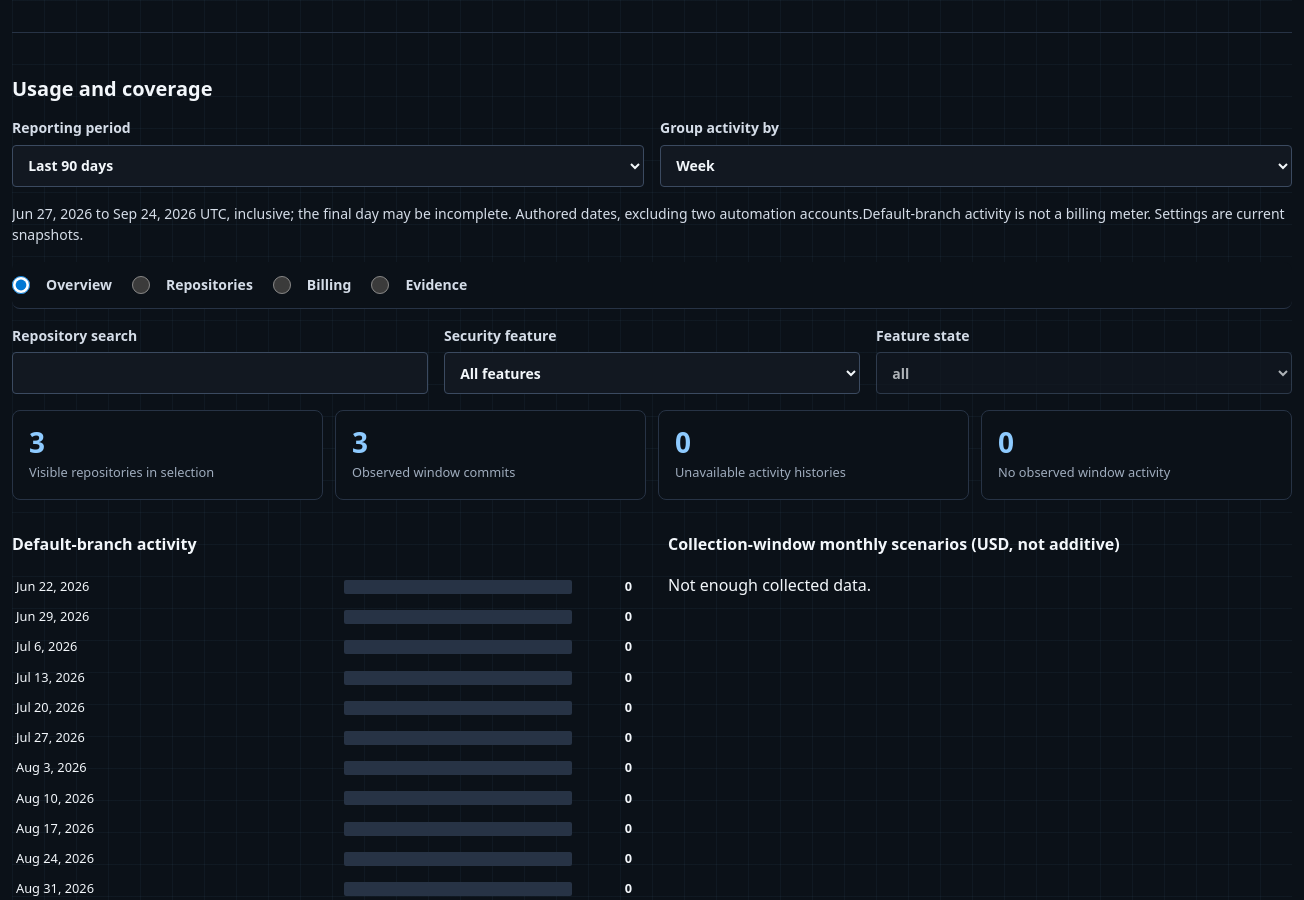
Results dashboard › narrows repositories by security feature independently of the feature state
Expected: the 1st text "3" is shown, [29, 423, 45, 461]
Select "Code Security" in the dropdown labelled "Security feature". click: [652, 373]
box: [444, 352, 860, 394]
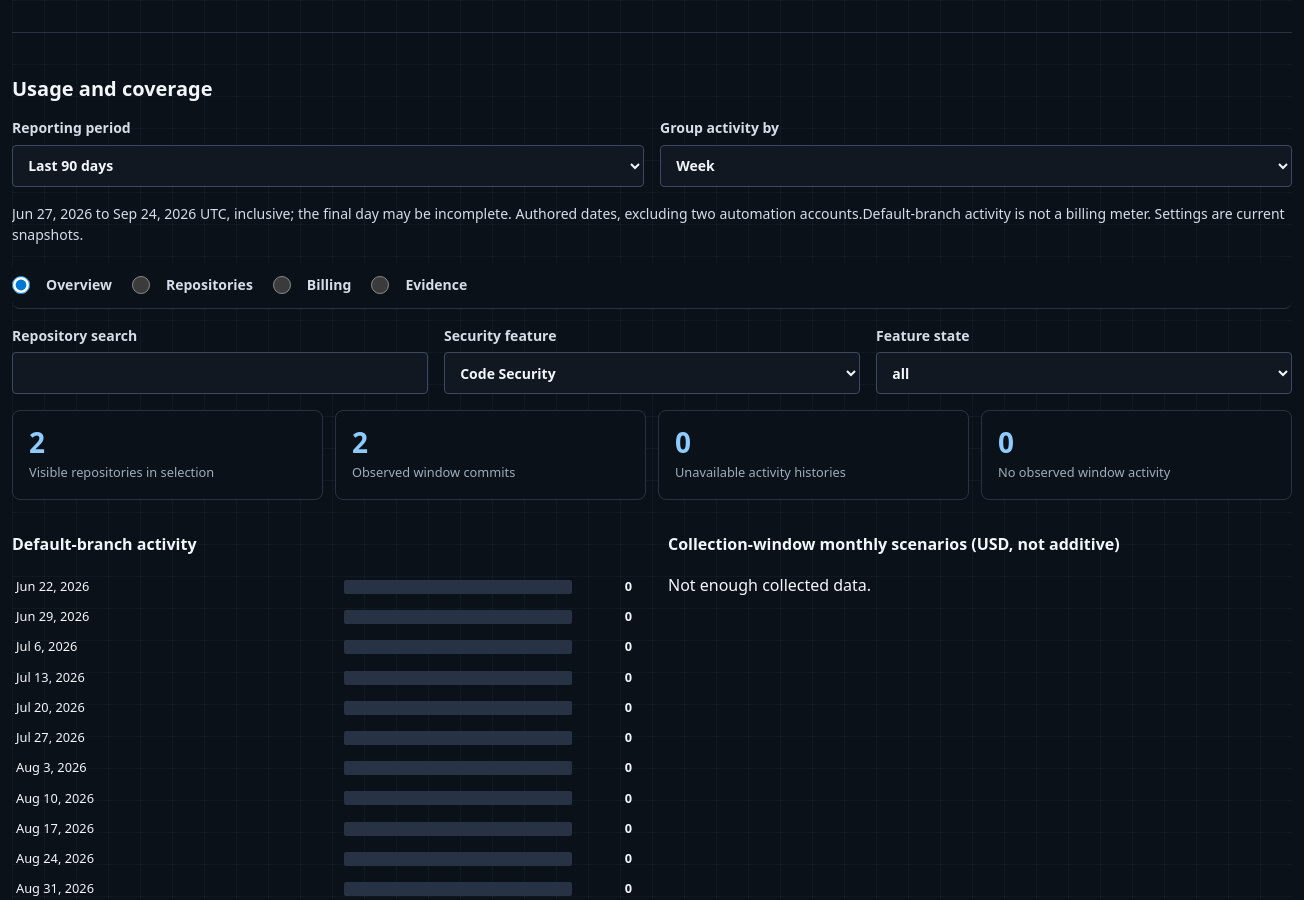
Now the 1st text "2" is shown, box [29, 423, 45, 461]
Select "enabled" in the dropdown labelled "Feature state". click: [1084, 373]
box: [876, 352, 1292, 394]
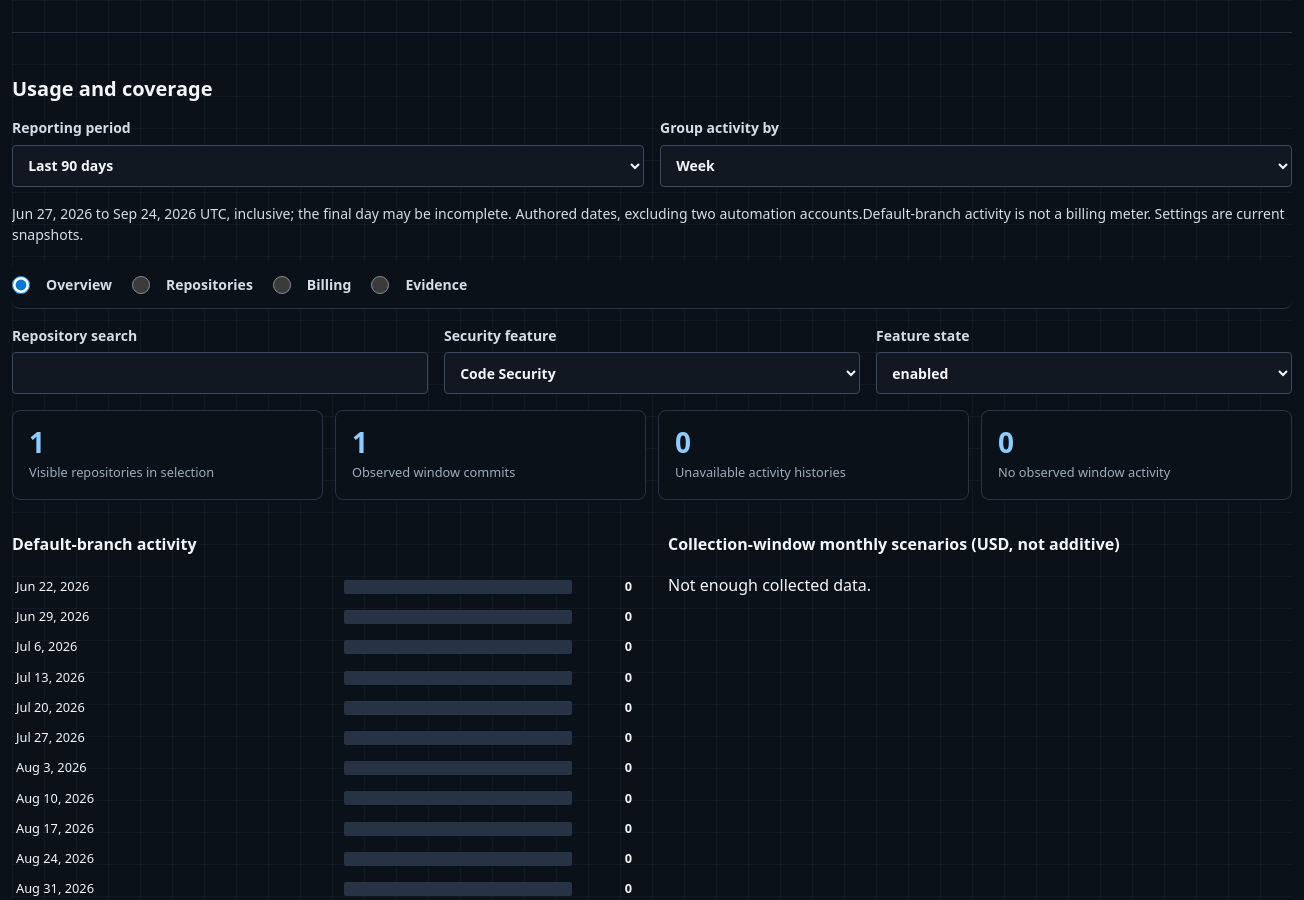
Now the 1st text "1" is shown, box [29, 423, 45, 461]
# A repository that never reports the feature is treated as an unknown state for it.
Select "unknown" in the dropdown labelled "Feature state". click: [1084, 373]
box: [876, 352, 1292, 394]
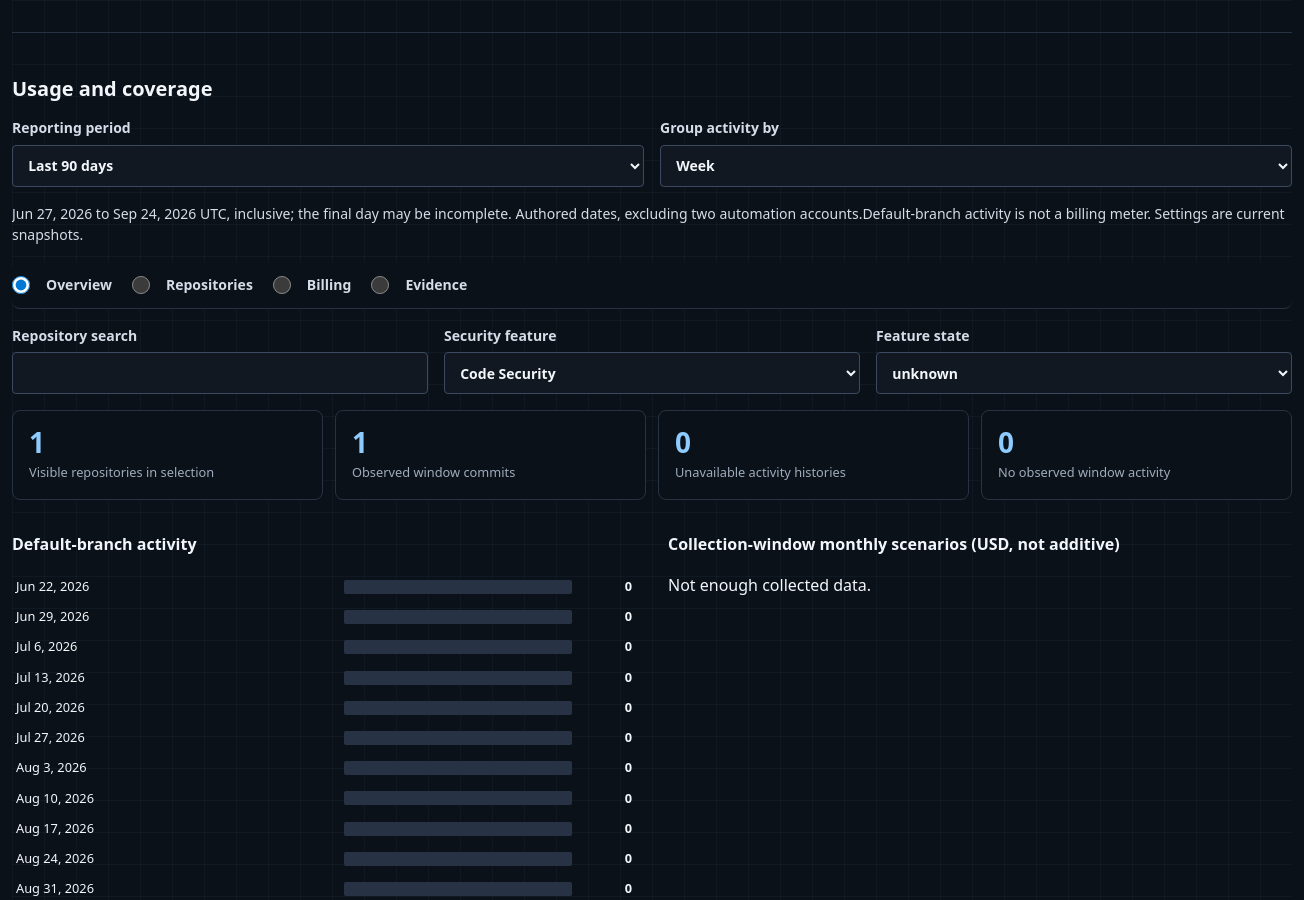
Now the 1st text "1" is shown, box [29, 423, 45, 461]
Select "All features" in the dropdown labelled "Security feature". click: [652, 373]
box: [444, 352, 860, 394]
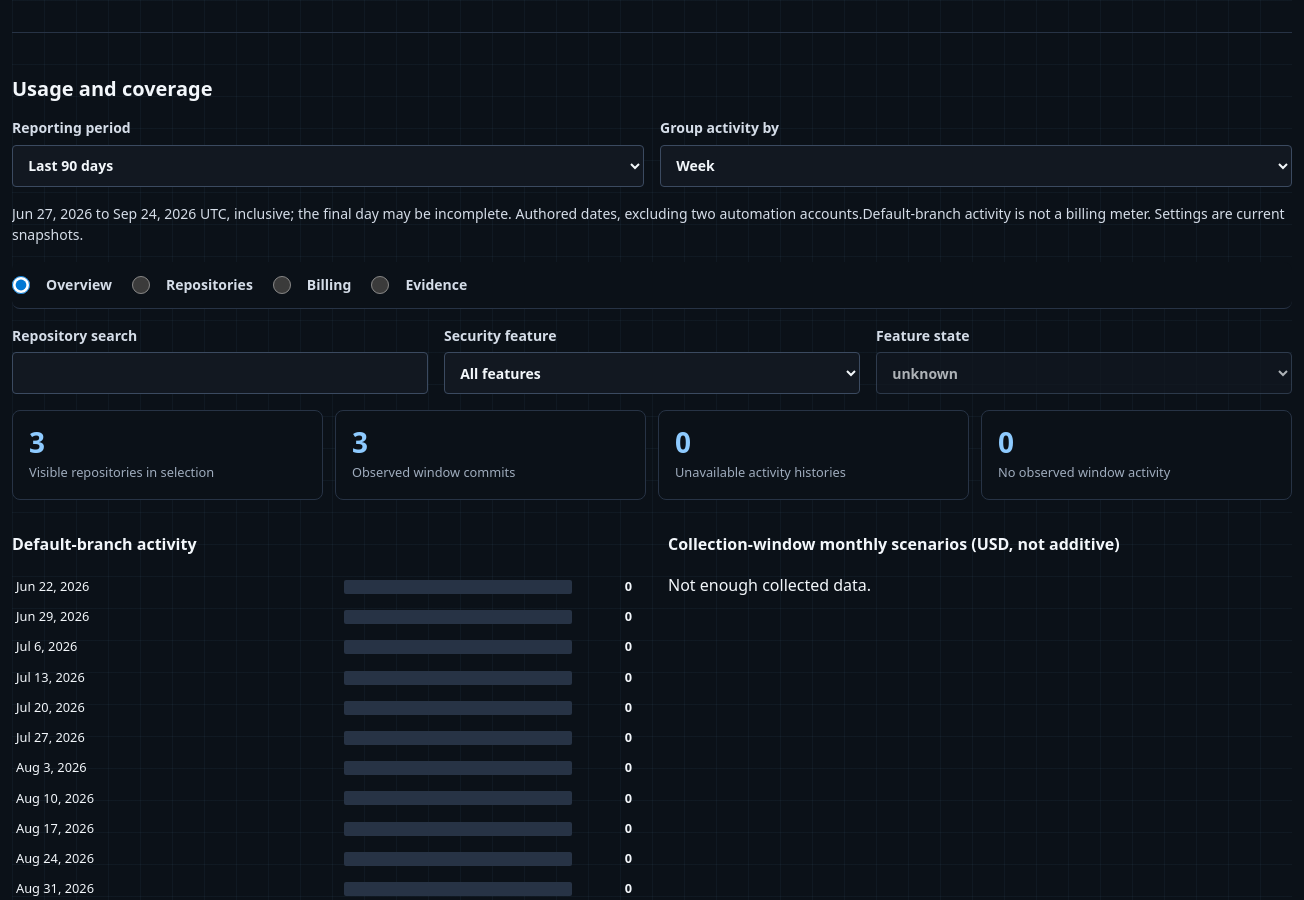
Now the 1st text "3" is shown, box [29, 423, 45, 461]
Now the dropdown labelled "Feature state" is disabled, box [876, 352, 1292, 394]
